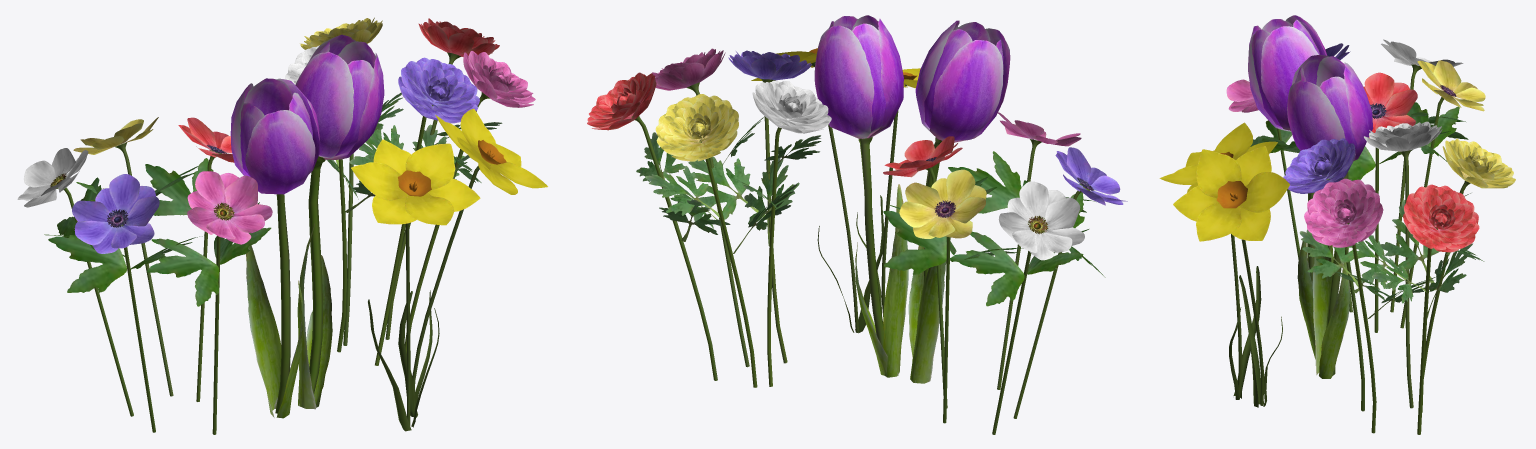
File: low_poly_flowers.glb
3 views of the same model, side by side, from view 1: azimuth 30°, elevation 25°; view 2: azimuth 150°, elevation 25°; view 3: azimuth 270°, elevation 25° (orthographic). The views are drawn at different scales.
Parts seen in each view (by area): view 1: Cylinder.002_tulip_transparent_1_0, Cylinder.001_tulip_transparent_1_0, Cylinder.010_anemone_transparent_0, Cylinder.009_anemone_transparent_0, Cylinder.003_narcissus_transparent_1_0, Cylinder_ranunculus_transparent_1_0, Cylinder.004_narcissus_transparent_1_0, Cylinder.005_ranunculus_transparent_1_0, Cylinder.011_anemone_transparent_0, Cylinder.013_anemone_transparent_0, Cylinder.006_ranunculus_transparent_1_0, Cylinder.001_tulip_opague_1_0 (+16 smaller); view 2: Cylinder.001_tulip_transparent_1_0, Cylinder.002_tulip_transparent_1_0, Cylinder.013_anemone_transparent_0, Cylinder.012_anemone_transparent_0, Cylinder.007_ranunculus_transparent_1_0, Cylinder.008_ranunculus_transparent_1_0, Cylinder.006_ranunculus_transparent_1_0, Cylinder_ranunculus_transparent_1_0, Cylinder.010_anemone_transparent_0, Cylinder.009_anemone_transparent_0, Cylinder.005_ranunculus_transparent_1_0, Cylinder.001_tulip_opague_1_0 (+13 smaller); view 3: Cylinder.001_tulip_transparent_1_0, Cylinder.004_narcissus_transparent_1_0, Cylinder.002_tulip_transparent_1_0, Cylinder.006_ranunculus_transparent_1_0, Cylinder.005_ranunculus_transparent_1_0, Cylinder.007_ranunculus_transparent_1_0, Cylinder_ranunculus_transparent_1_0, Cylinder.011_anemone_transparent_0, Cylinder.012_anemone_transparent_0, Cylinder.008_ranunculus_transparent_1_0, Cylinder.004_narcissus_opague_1_0, Cylinder.003_narcissus_transparent_1_0 (+13 smaller).
Part boxes in pixels (x1,y1,x2,y2): Cylinder.002_tulip_transparent_1_0: (230,78,319,418); Cylinder.001_tulip_transparent_1_0: (295,34,384,409); Cylinder.010_anemone_transparent_0: (147,171,272,306); Cylinder.009_anemone_transparent_0: (48,174,204,292); Cylinder.003_narcissus_transparent_1_0: (351,139,480,225); Cylinder_ranunculus_transparent_1_0: (359,57,479,179); Cylinder.004_narcissus_transparent_1_0: (435,108,547,194); Cylinder.005_ranunculus_transparent_1_0: (412,51,535,182); Cylinder.011_anemone_transparent_0: (145,117,234,215); Cylinder.013_anemone_transparent_0: (17,148,125,256); Cylinder.006_ranunculus_transparent_1_0: (349,18,502,164); Cylinder.001_tulip_opague_1_0: (308,156,325,393); Cylinder.001_tulip_transparent_1_0: (814,15,908,377); Cylinder.002_tulip_transparent_1_0: (908,20,1010,383); Cylinder.013_anemone_transparent_0: (949,181,1088,306); Cylinder.012_anemone_transparent_0: (883,169,1023,274); Cylinder.007_ranunculus_transparent_1_0: (645,94,798,253); Cylinder.008_ranunculus_transparent_1_0: (734,80,831,246); Cylinder.006_ranunculus_transparent_1_0: (587,72,730,241); Cylinder_ranunculus_transparent_1_0: (688,50,821,219); Cylinder.010_anemone_transparent_0: (948,112,1095,213); Cylinder.009_anemone_transparent_0: (1022,147,1127,277); Cylinder.005_ranunculus_transparent_1_0: (652,48,764,228); Cylinder.001_tulip_opague_1_0: (858,137,883,347); Cylinder.001_tulip_transparent_1_0: (1287,54,1373,378); Cylinder.004_narcissus_transparent_1_0: (1173,146,1289,241); Cylinder.002_tulip_transparent_1_0: (1248,15,1333,359); Cylinder.006_ranunculus_transparent_1_0: (1372,184,1479,317); Cylinder.005_ranunculus_transparent_1_0: (1299,178,1435,318); Cylinder.007_ranunculus_transparent_1_0: (1380,138,1515,290); Cylinder_ranunculus_transparent_1_0: (1283,138,1395,300); Cylinder.011_anemone_transparent_0: (1348,72,1450,180); Cylinder.012_anemone_transparent_0: (1407,60,1485,161); Cylinder.008_ranunculus_transparent_1_0: (1348,121,1470,288); Cylinder.004_narcissus_opague_1_0: (1230,192,1282,407); Cylinder.003_narcissus_transparent_1_0: (1159,122,1277,192).
Bounding box in the file's own units: 31.8 × 21.49 × 21.22.
8 materials, 8 textured.
